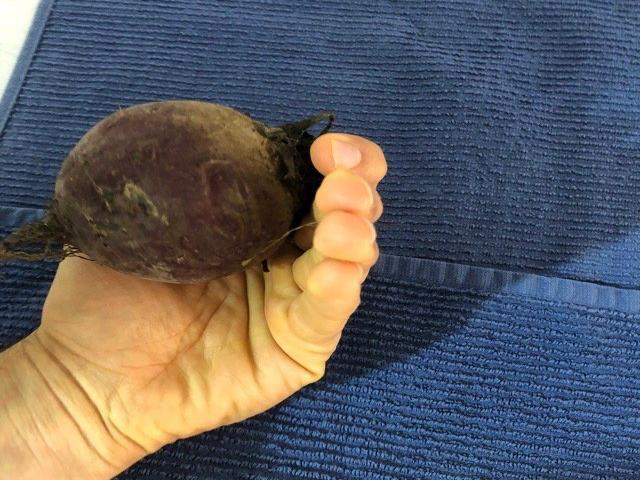beet: (3, 101, 338, 284)
